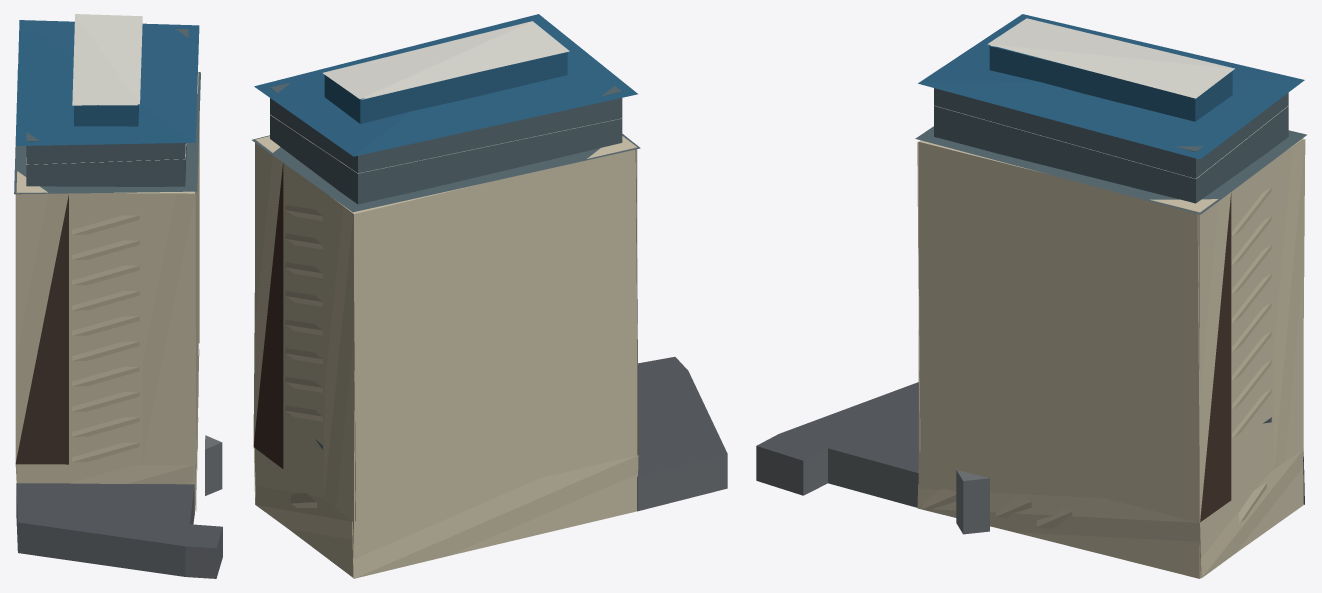
The model's file is havengebouw.lod2.glb.
3 renders of one model, left to right at view 1: azimuth 30°, elevation 25°; view 2: azimuth 150°, elevation 25°; view 3: azimuth 270°, elevation 25°, orthographic. The views are drawn at different scales.
Parts seen in each view (by area): view 1: lod2; view 2: lod2; view 3: lod2.
Part boxes in pixels (box(x1,y1,x2,y2)): lod2: box(14, 14, 222, 578); lod2: box(252, 14, 727, 578); lod2: box(756, 14, 1306, 578).
Bounding box in the file's own units: 43.23 × 54.05 × 59.95.
